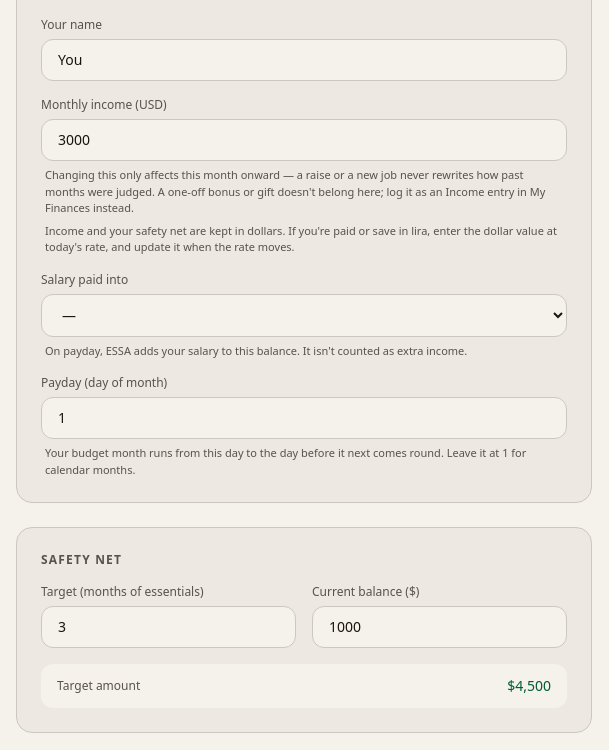
Test case: input that is not a number is discarded, not read as zero › discarding restores the field to the real balance rather than leaving it blank
(page scrolled)
Clear the number field labelled "Current balance ($)" at (440, 627), box x1=312 y1=606 x2=567 y2=648
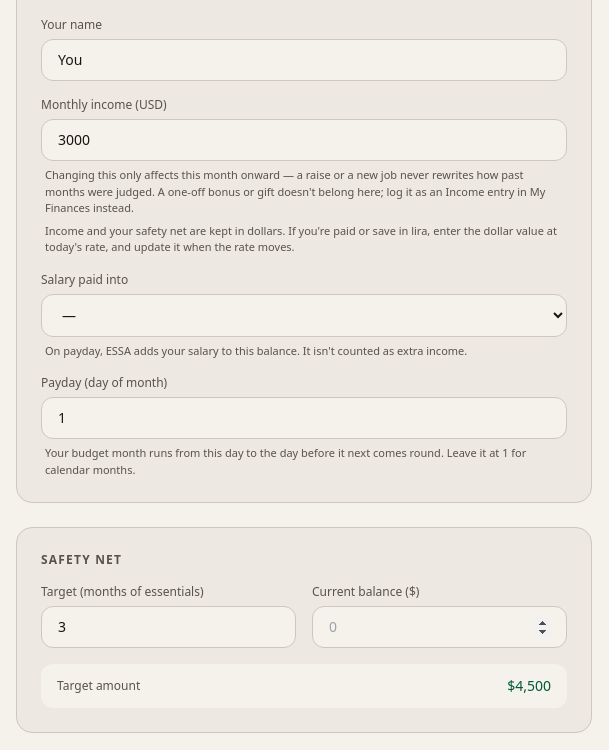
Press Tab
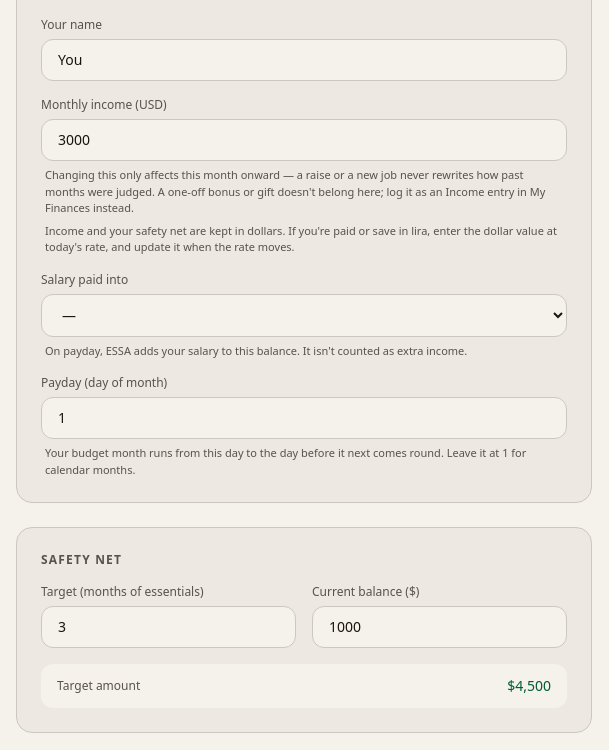
Check: the number field labelled "Current balance ($)" holds "1000", box x1=312 y1=606 x2=567 y2=648
